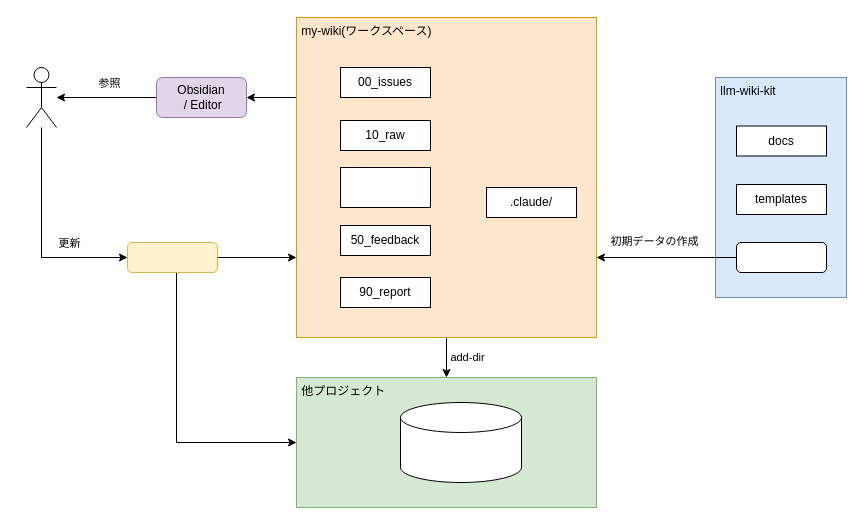
The diagram is 864 pixels wide and 525 high, and some of its shapes have lost their labels. Here are the shapes that lost their labels. From the top down, the centre of each, then its label:
At [41,97]: "ユーザー".
At [385,187]: "30_wiki / 40_project".
At [172,257]: "Claude Code".
At [781,257]: "setup.sh".
At [461,442]: "ソースコード等".
